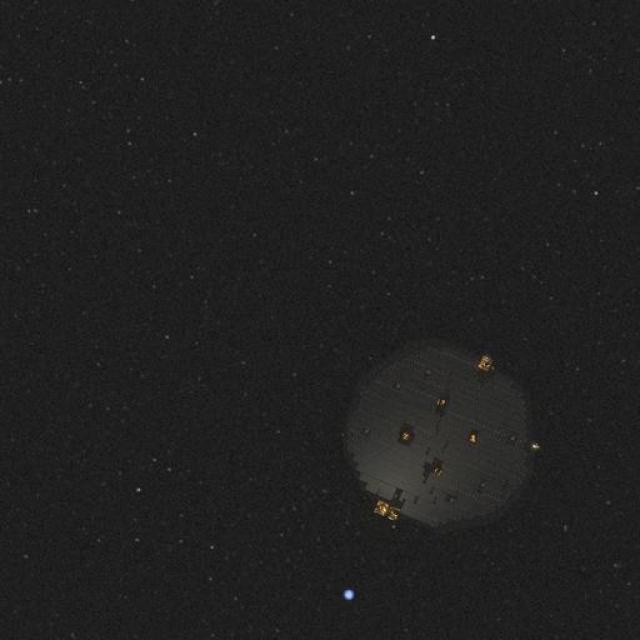lisa_pathfinder: (310, 312, 558, 578)
